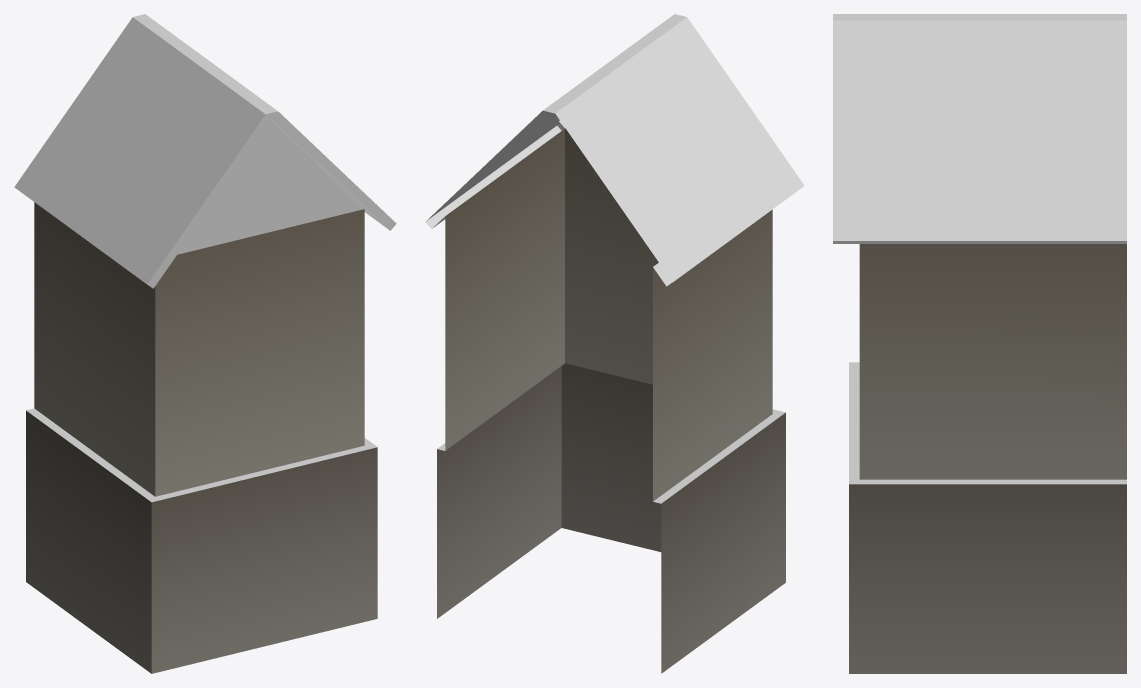
The model's file is Front_9.fbx.
3 renders of one model, left to right at view 1: azimuth 30°, elevation 25°; view 2: azimuth 150°, elevation 25°; view 3: azimuth 270°, elevation 25°, orthographic. The views are drawn at different scales.
Visible parts, largest first — view 1: Front_G-2.003, Front_G-2.001, Front_G-2.006, Front_G-2.004, Front_G-2.005, Front_G-2.008, Front_G-2.002, Front_G-2.007; view 2: Front_G-2.003, Front_G-2.001, Front_G-2.006, Front_G-2.005, Front_G-2.007, Front_G-2.008, Front_G-2.002; view 3: Front_G-2.003, Front_G-2.001, Front_G-2.006, Front_G-2.005, Front_G-2.002, Front_G-2.007, Front_G-2.008.
Part boxes in pixels (x1,y1,x2,y2): Front_G-2.003: [34, 202, 364, 496]; Front_G-2.001: [26, 410, 377, 673]; Front_G-2.006: [28, 17, 253, 255]; Front_G-2.004: [177, 120, 363, 254]; Front_G-2.005: [14, 102, 277, 284]; Front_G-2.008: [147, 111, 396, 288]; Front_G-2.002: [26, 408, 377, 502]; Front_G-2.007: [133, 14, 265, 105]; Front_G-2.003: [445, 128, 772, 501]; Front_G-2.001: [437, 363, 785, 673]; Front_G-2.006: [440, 26, 778, 262]; Front_G-2.005: [425, 14, 804, 281]; Front_G-2.007: [543, 23, 674, 113]; Front_G-2.008: [425, 123, 672, 283]; Front_G-2.002: [437, 409, 785, 503]; Front_G-2.003: [859, 244, 1126, 479]; Front_G-2.001: [849, 484, 1126, 673]; Front_G-2.006: [859, 20, 1126, 215]; Front_G-2.005: [833, 14, 1126, 240]; Front_G-2.002: [849, 362, 1126, 484]; Front_G-2.007: [859, 14, 1126, 20]; Front_G-2.008: [833, 241, 1126, 243].
Size of the model in its own units: 298 by 615 by 275.
